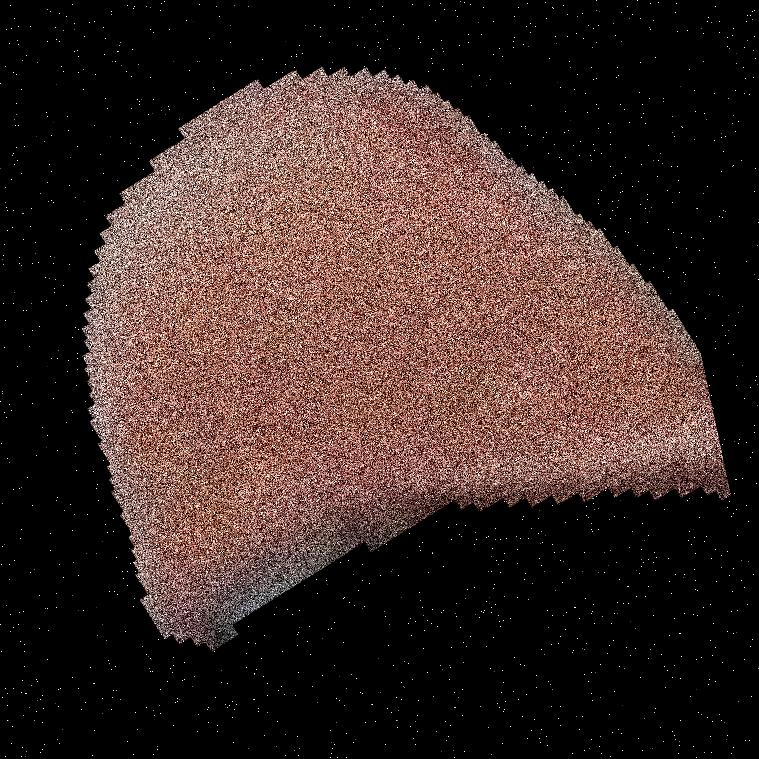Capacete: (225, 0, 617, 758)
